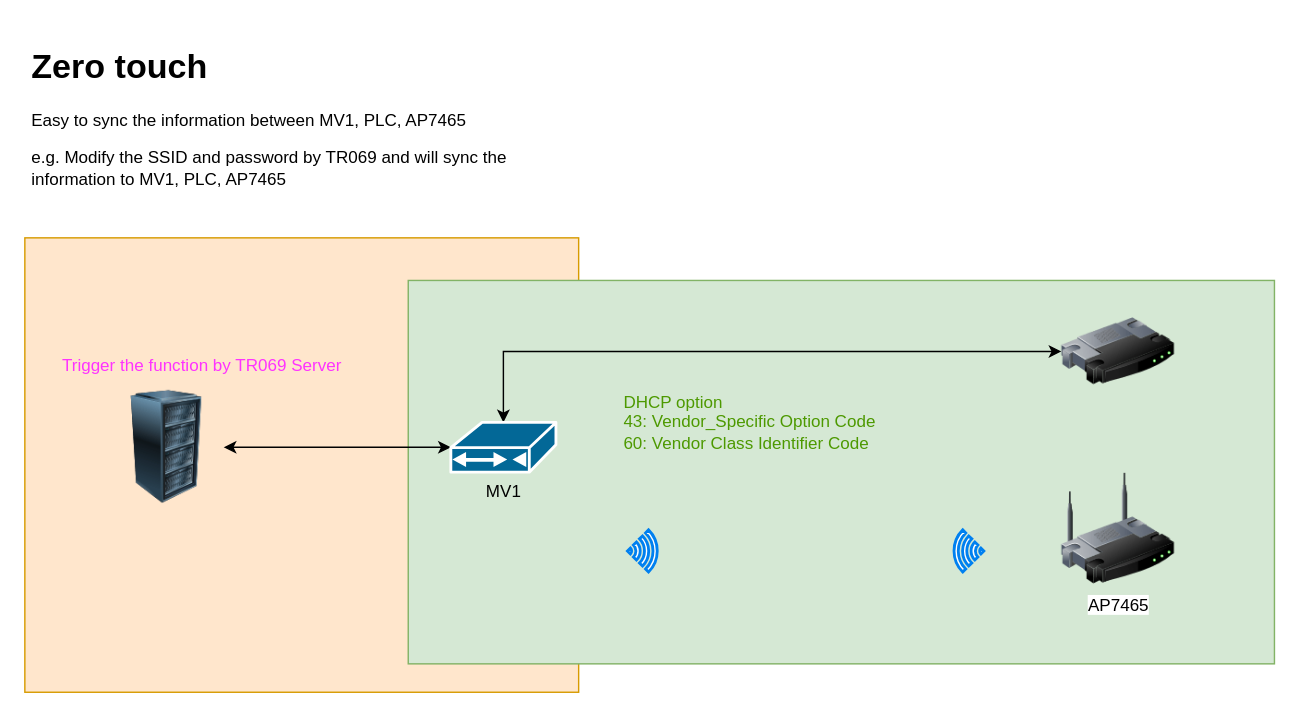
This 1299x717 diagram has some shape labels left out. Here are the shapes that lost their labels. From the top down, the box of each, then its label:
(1061, 294, 1174, 408): PLC(Power Line Communication)
(109, 390, 223, 503): TR069 Server
